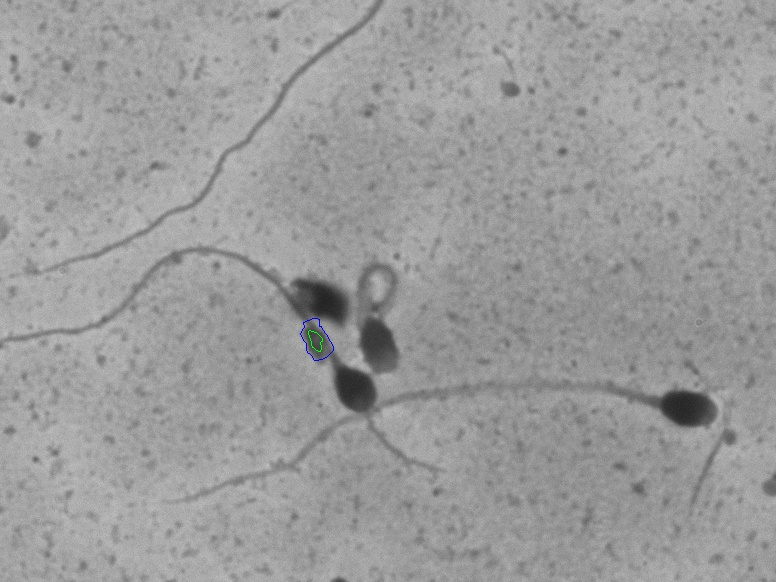Abnormal: (352, 232, 435, 378)
Normal: (138, 363, 755, 524)
